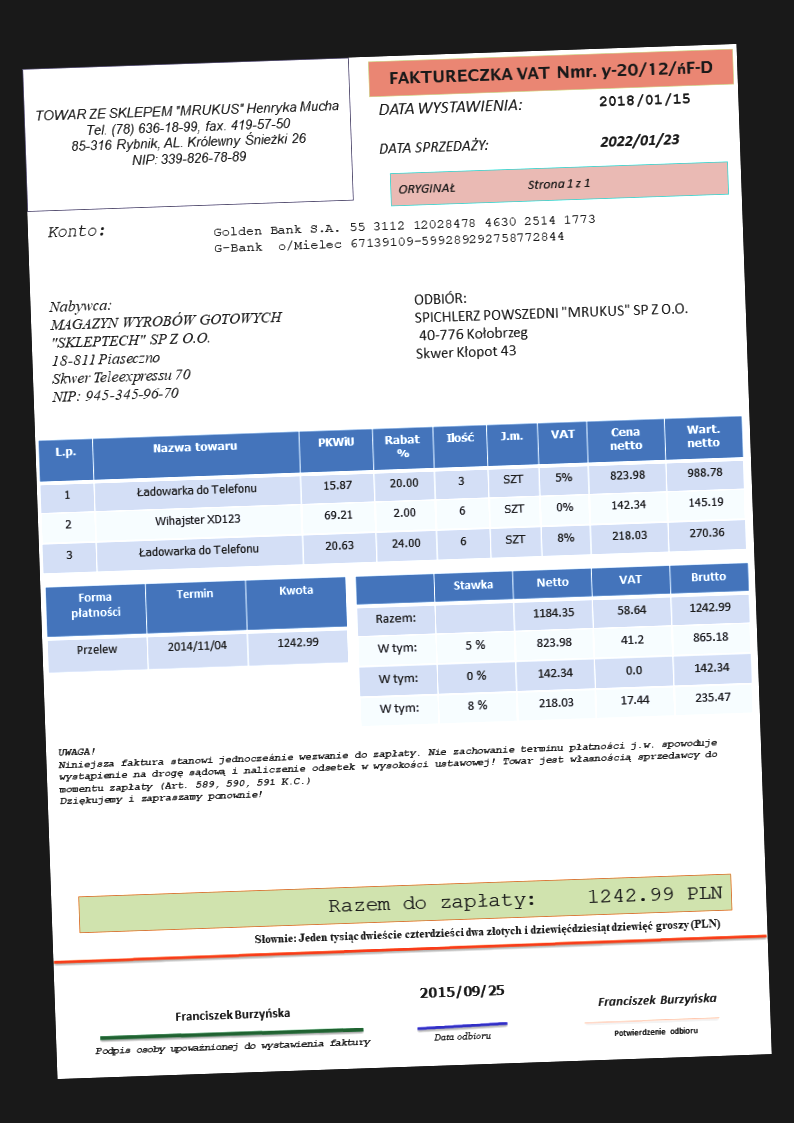Table: (37, 415, 747, 575), (354, 561, 755, 728), (44, 575, 348, 675)
TextBox: (55, 723, 721, 808), (47, 291, 287, 405), (33, 95, 343, 172), (412, 280, 690, 362), (212, 211, 598, 257), (253, 915, 721, 947), (326, 881, 723, 918), (385, 56, 713, 89), (93, 1035, 372, 1059), (395, 174, 592, 198), (376, 95, 525, 118), (376, 135, 491, 157), (595, 991, 718, 1011), (172, 1005, 291, 1025), (597, 91, 691, 111), (417, 981, 506, 1001), (597, 131, 683, 150), (611, 1024, 700, 1039), (45, 221, 106, 241), (431, 1029, 493, 1044)
